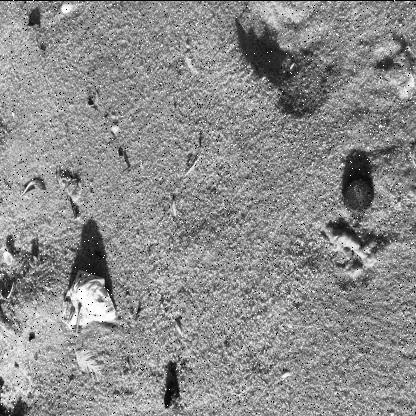metal: (344, 175, 374, 215)
